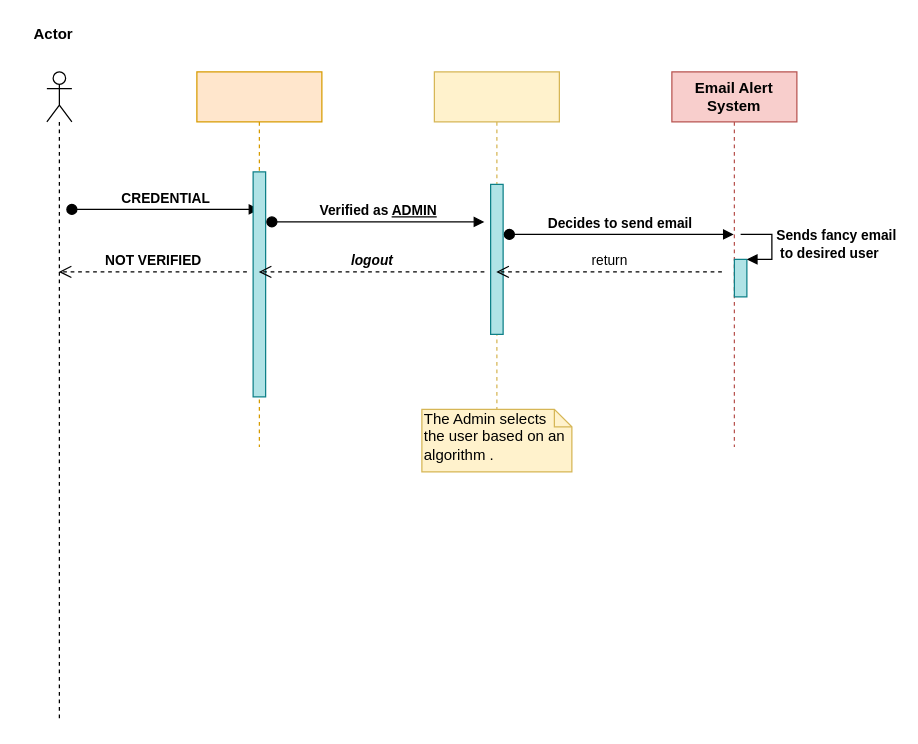
This 918x744 diagram has some shape labels left out. Each missing label, with the box of its shape:
ADMIN Dashboard: (433, 71, 559, 447)
Login: (196, 71, 322, 447)
